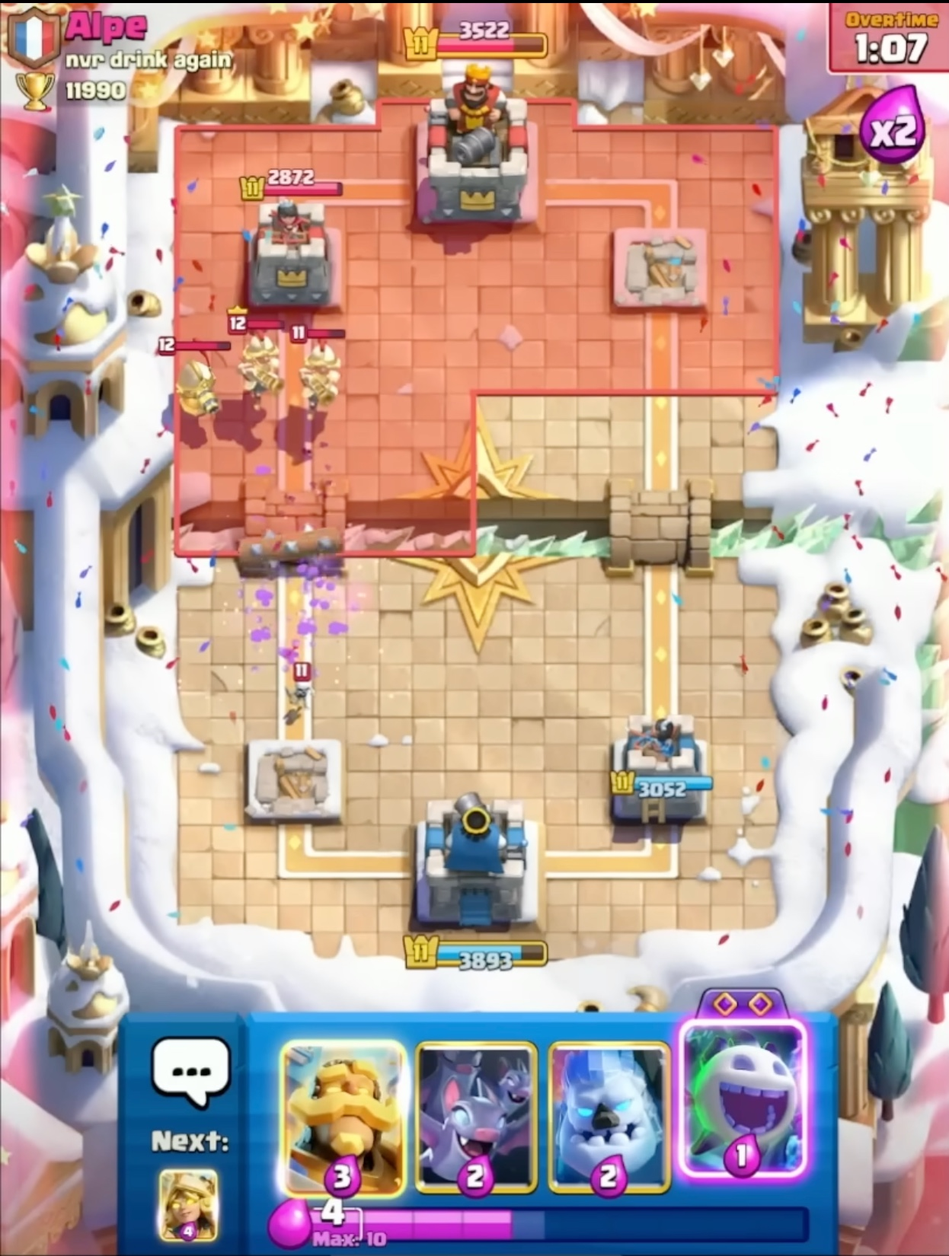hero-musketeer: (225, 301, 290, 418), (289, 323, 350, 426)
skeleton: (279, 655, 328, 714)
